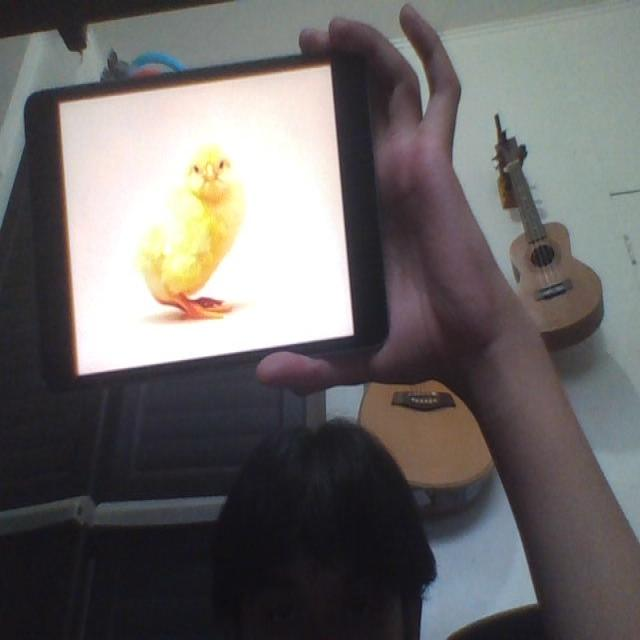Healthy: (133, 142, 245, 323)
